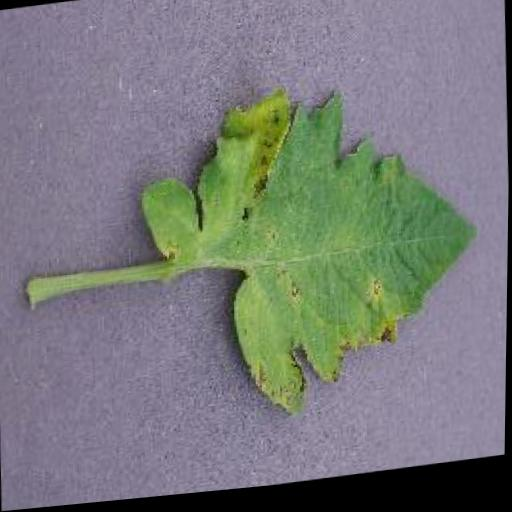Septoria: (137, 73, 490, 433)
